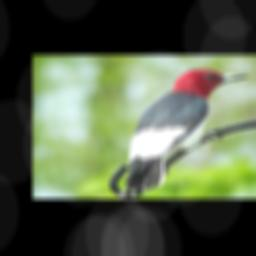Woodpecker: (114, 68, 251, 198)
